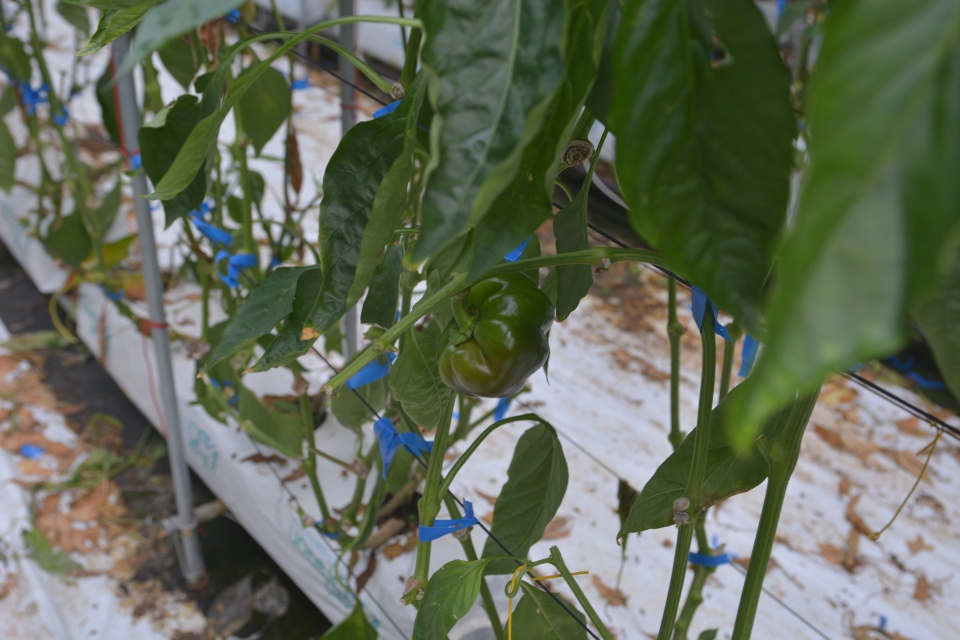fruit: (436, 257, 556, 400)
pedicle: (449, 303, 481, 345)
